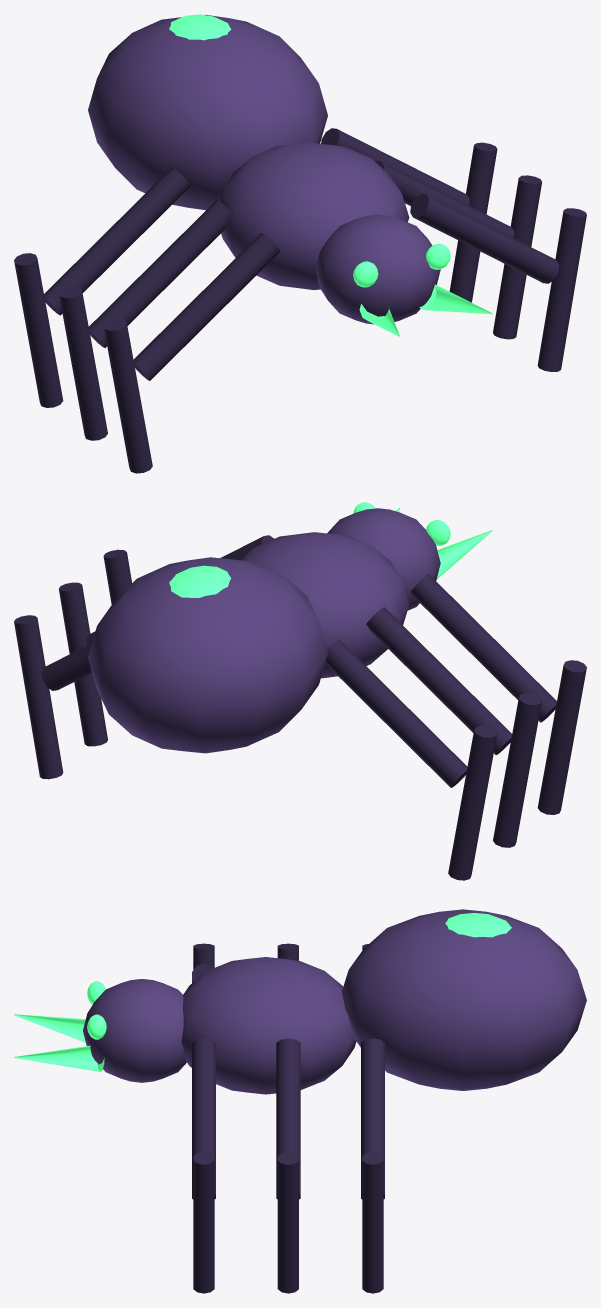
Rendered from insect_arachnid.glb.
3 renders of one model, top to bottom at view 1: azimuth 30°, elevation 25°; view 2: azimuth 150°, elevation 25°; view 3: azimuth 270°, elevation 25°, orthographic. The views are drawn at different scales.
Parts seen in each view (by area): view 1: body; view 2: body; view 3: body.
Part boxes in pixels (box(x1,y1,x2,y2)): body: box(14, 14, 586, 473); body: box(14, 502, 586, 880); body: box(14, 909, 586, 1293).
Bounding box in the file's own units: 1.86 × 1.08 × 2.03.
